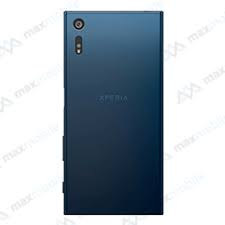sony: (59, 3, 165, 217)
